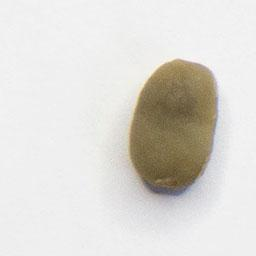peaberry: (125, 53, 223, 196)
